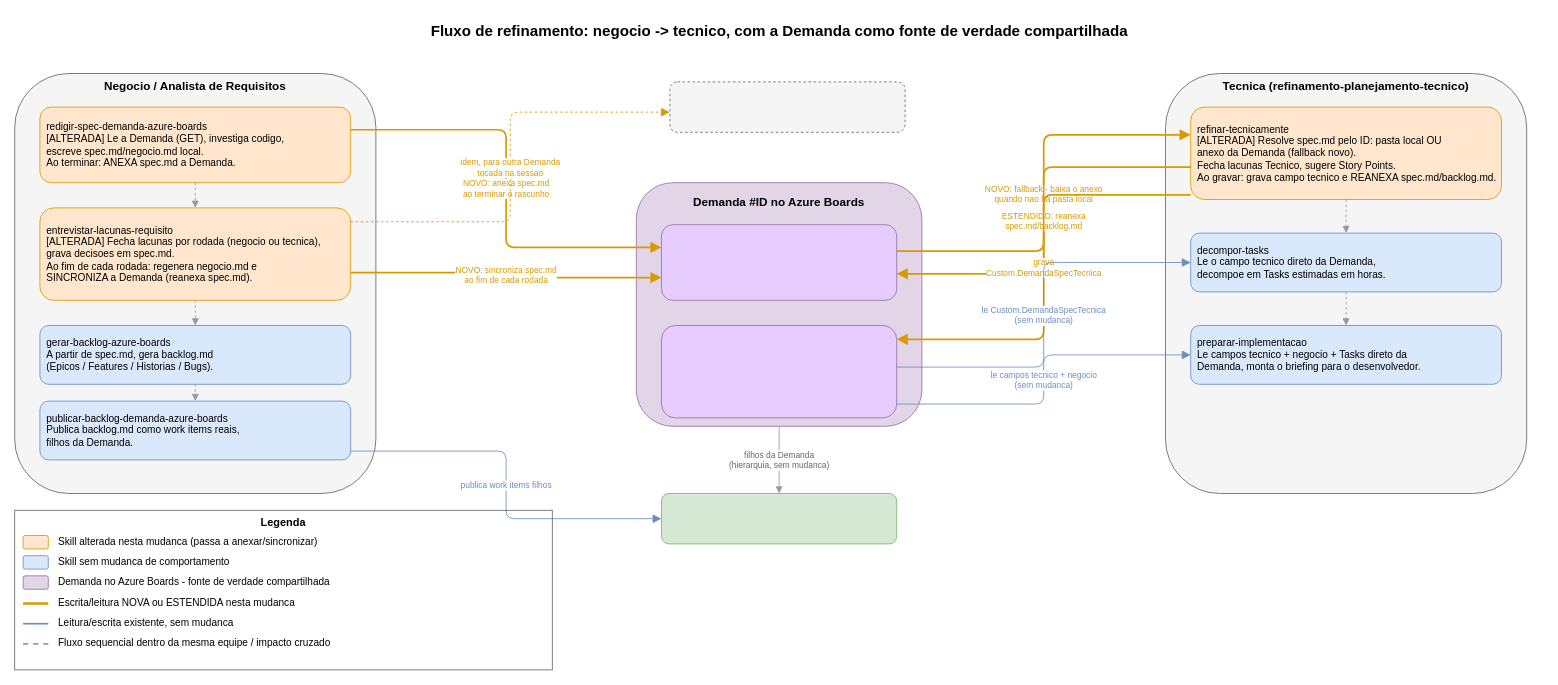
Some shapes in this 1558 by 685 pixel diagram are drawn without their labels. The shapes that lost their labels are listed below. From the top down, each one's centre as x and y in pixels, then its label:
the point at 787,106: Outra Demanda #ID2 (impacto cruzado na mesma sessao)
the point at 779,262: Anexos spec.md, backlog.md
the point at 779,371: Campos Custom.DemandaSpecTecnica Custom.DemandaSpecNegocios
the point at 779,518: Epico -> Feature -> Historia/Bug (work items filhos da Demanda)
